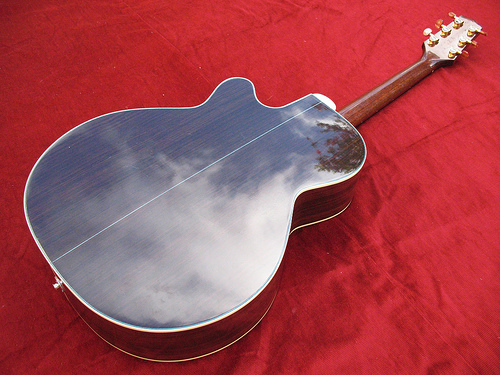guitar: (24, 10, 488, 361)
